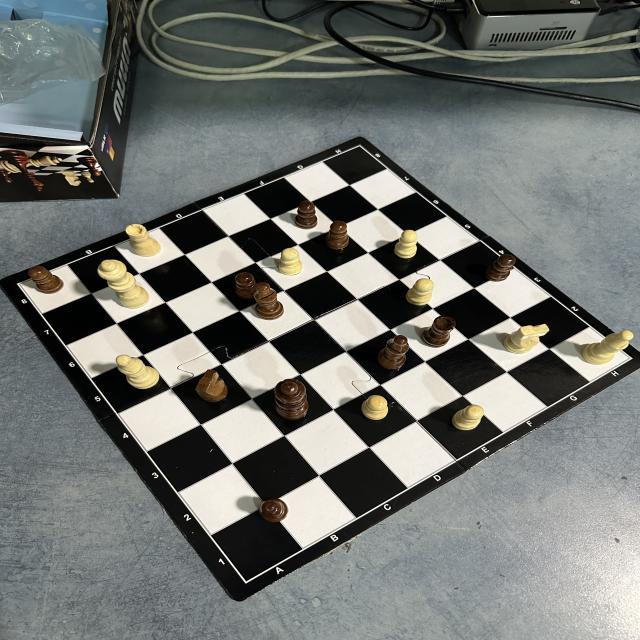Black-Bishop: (255, 282, 283, 321), (378, 335, 408, 370)
Black-Knight: (194, 370, 228, 402)
Black-Pawn: (29, 266, 63, 294), (486, 254, 515, 282), (294, 200, 318, 229), (259, 498, 288, 522), (236, 272, 257, 304), (326, 221, 349, 250)
Black-Queen: (274, 378, 308, 419)
Black-Rook: (422, 315, 457, 347)
White-Bishop: (583, 330, 634, 366), (117, 354, 158, 390)
White-Knight: (504, 323, 550, 354)
White-Pawn: (452, 404, 484, 430), (406, 278, 434, 306), (361, 396, 388, 420), (396, 230, 418, 258), (279, 248, 301, 276)
White-Queen: (98, 260, 148, 309)
White-Rook: (125, 223, 161, 256)
